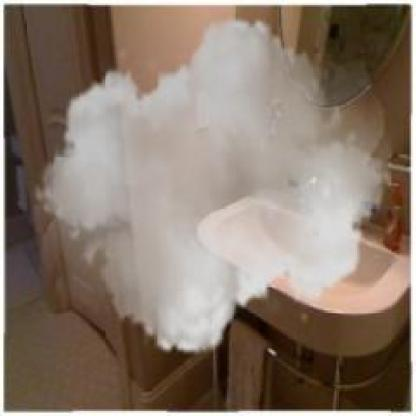Smoke: (33, 4, 392, 368)
